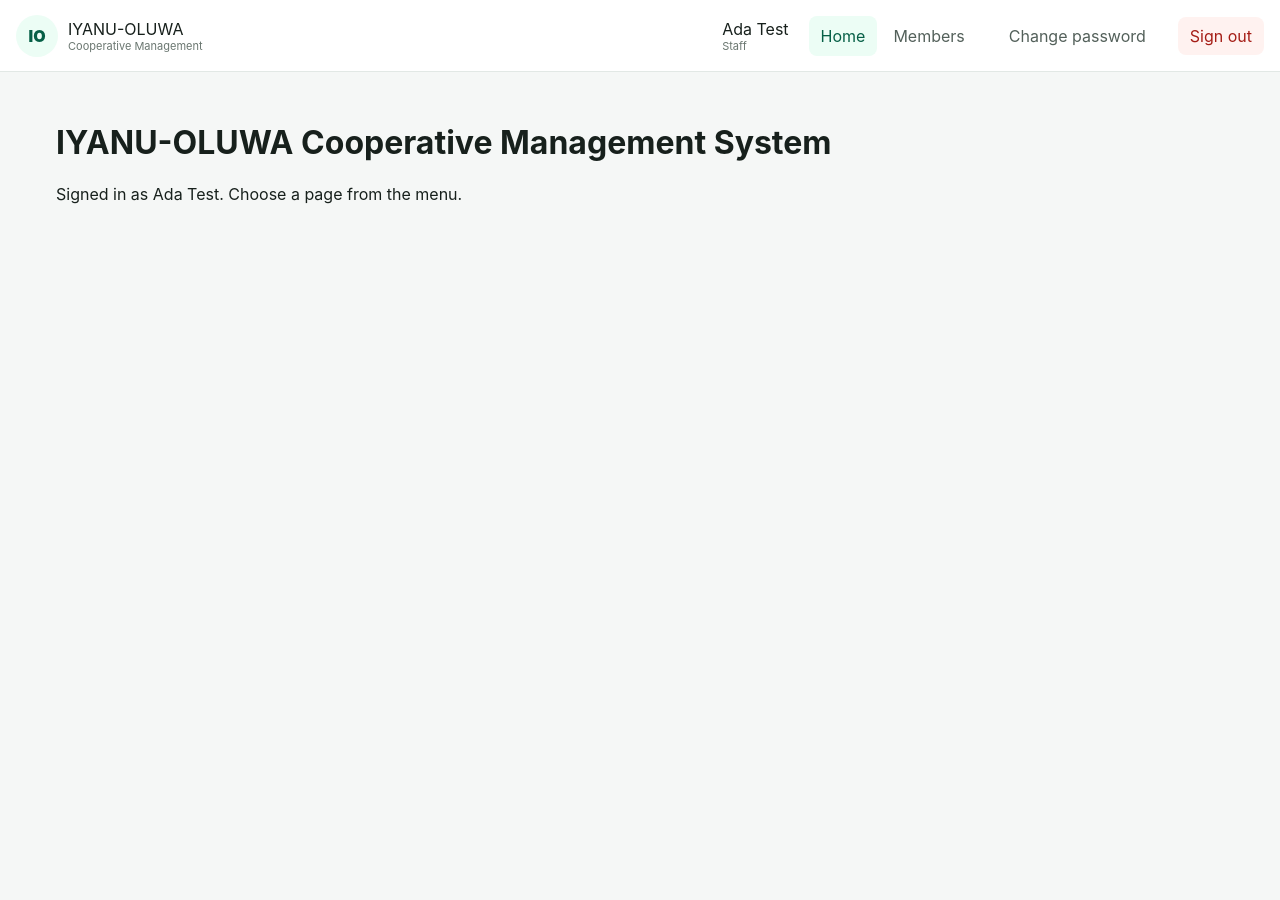
Test: member detail (jsdom) › leaves out payments and loans without payments.view and loans.view
Click the button "Members".
click(929, 36)  # box [881,16,977,56]
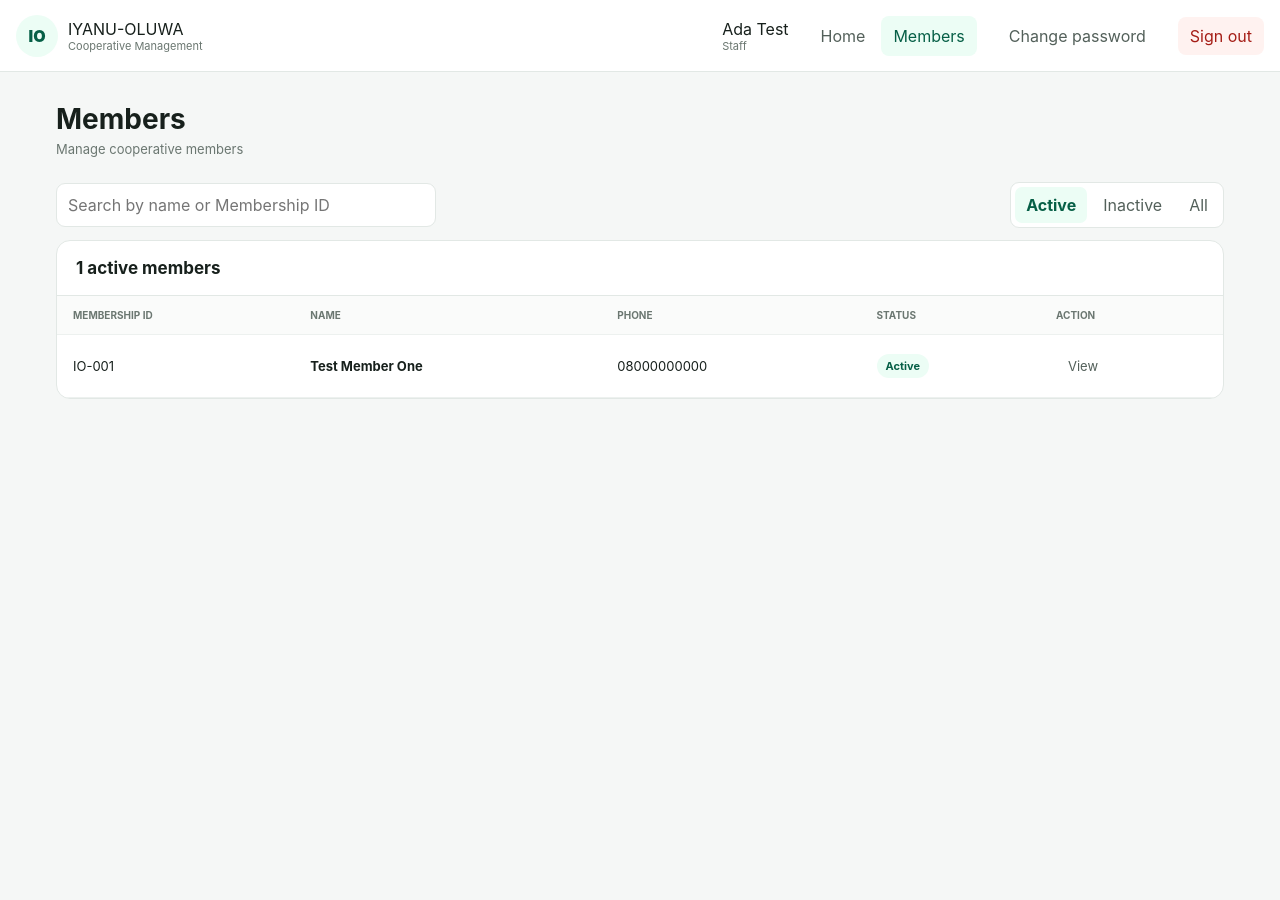
Click the button with aria-label "View Test Member One".
click(1083, 366)  # box [1056,348,1110,384]
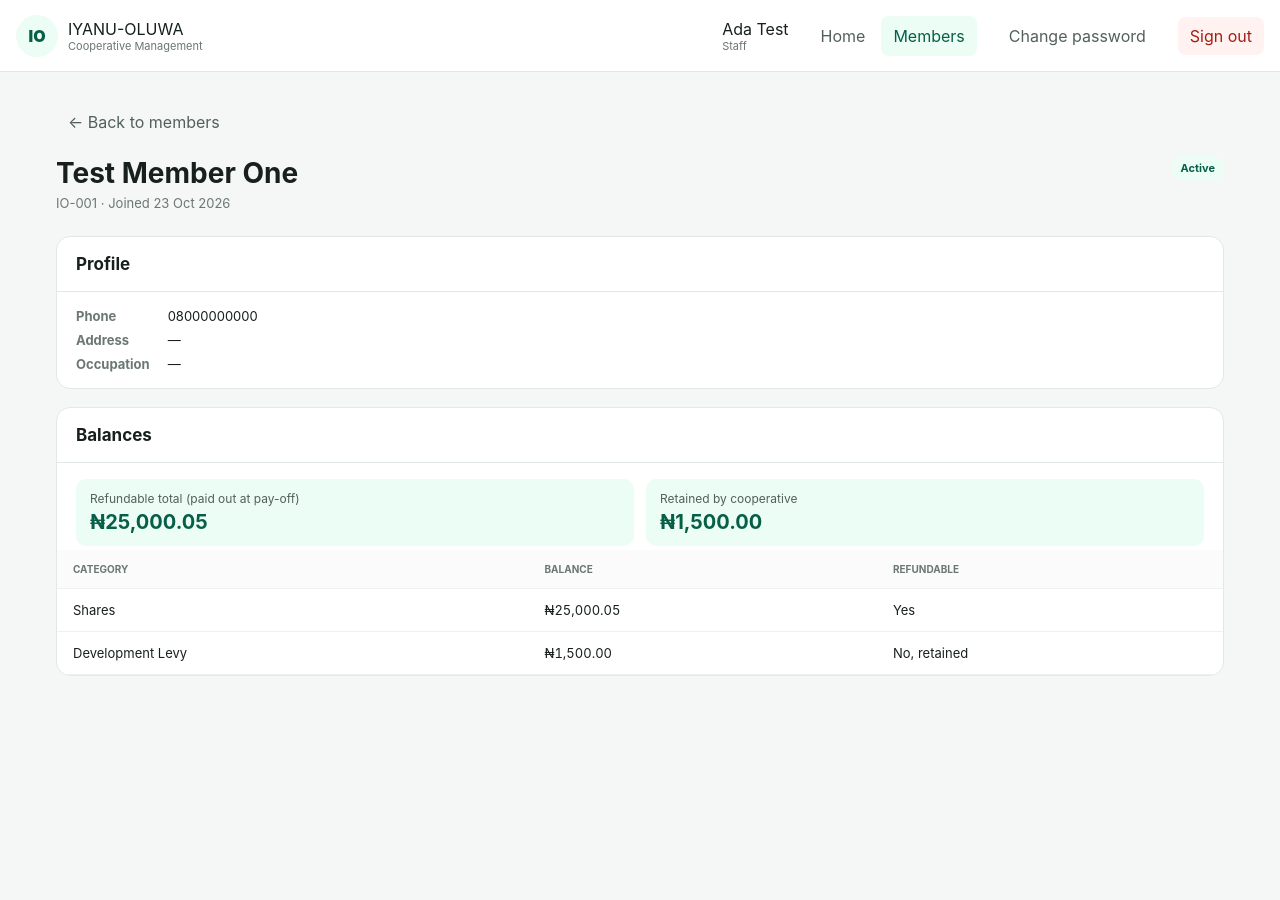
Now the element that starts with "Balances" shows "₦25,000.05", box [90,510,208,534]
